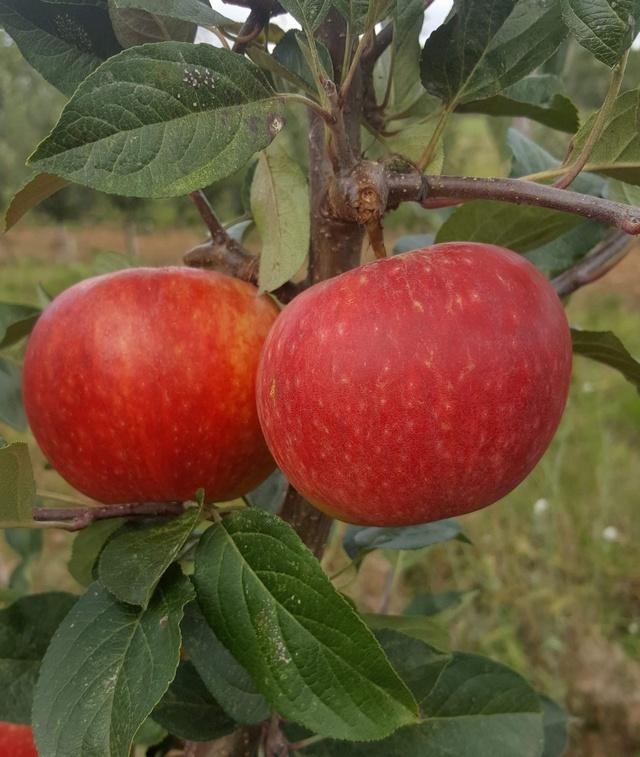apple: (248, 230, 574, 536), (23, 265, 282, 503)
